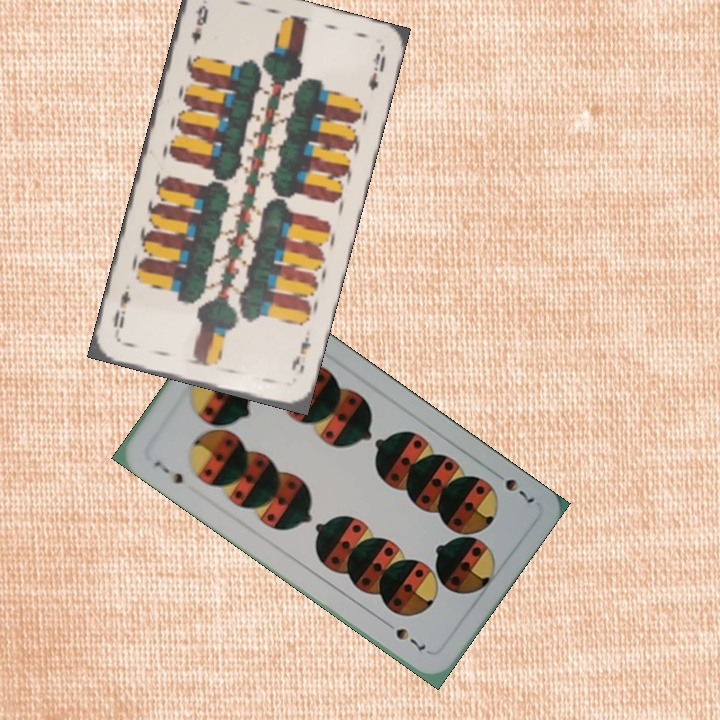E9: (287, 332, 314, 377), (187, 1, 211, 48)
S7: (500, 474, 538, 506), (150, 456, 186, 487)
